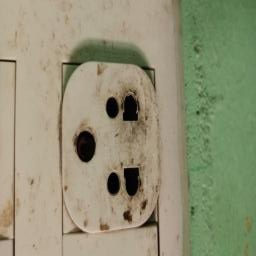outlet: (56, 51, 167, 241)
